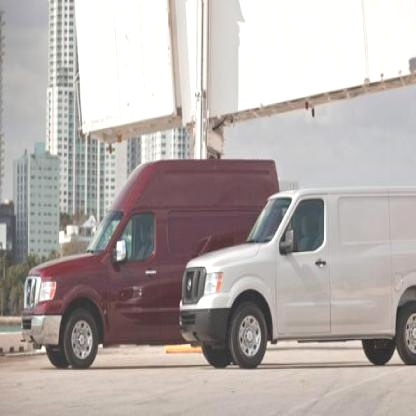Vehicle: (22, 159, 278, 375)
